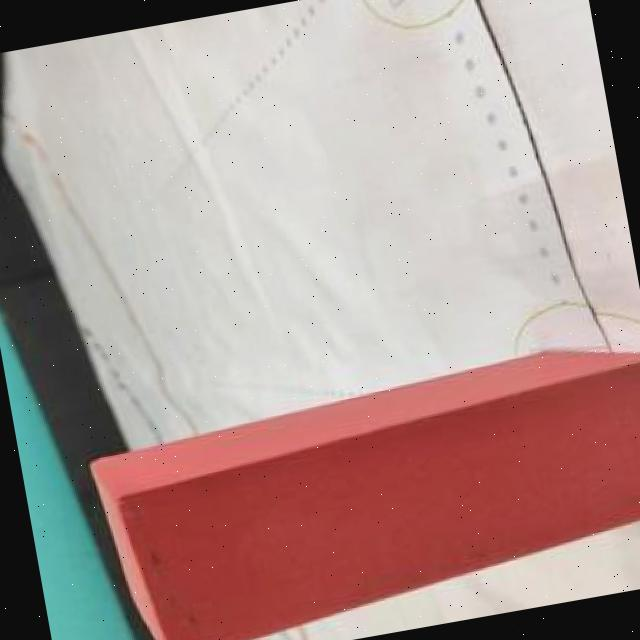redbox: (79, 329, 640, 640)
